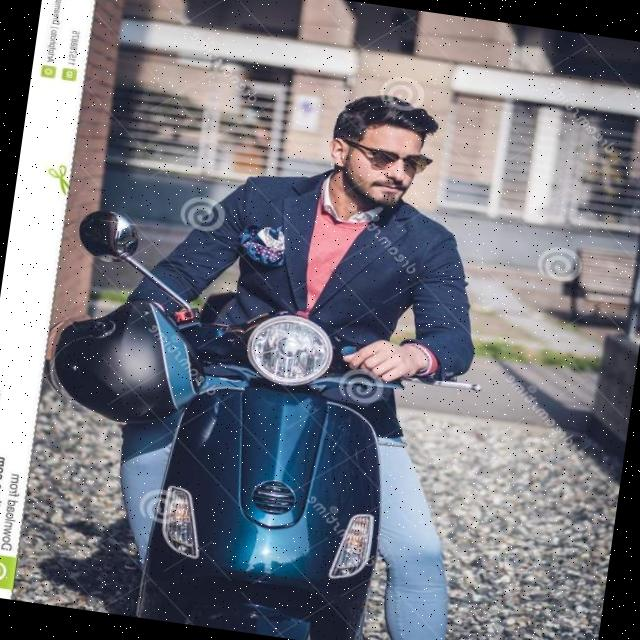No helmet: (316, 80, 445, 222)
